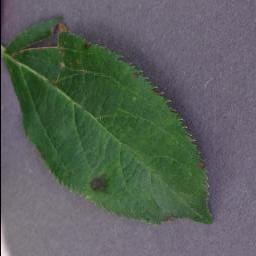apple scab disease: (3, 16, 215, 226)
